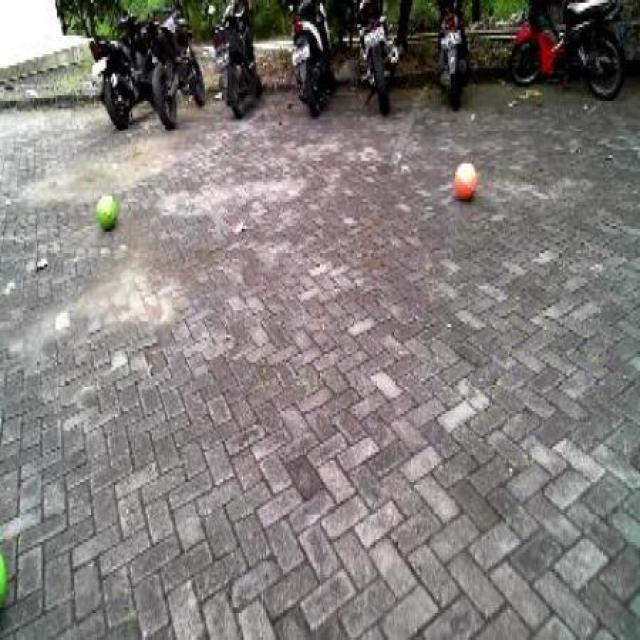buoy: (453, 154, 480, 203), (96, 185, 119, 232)
